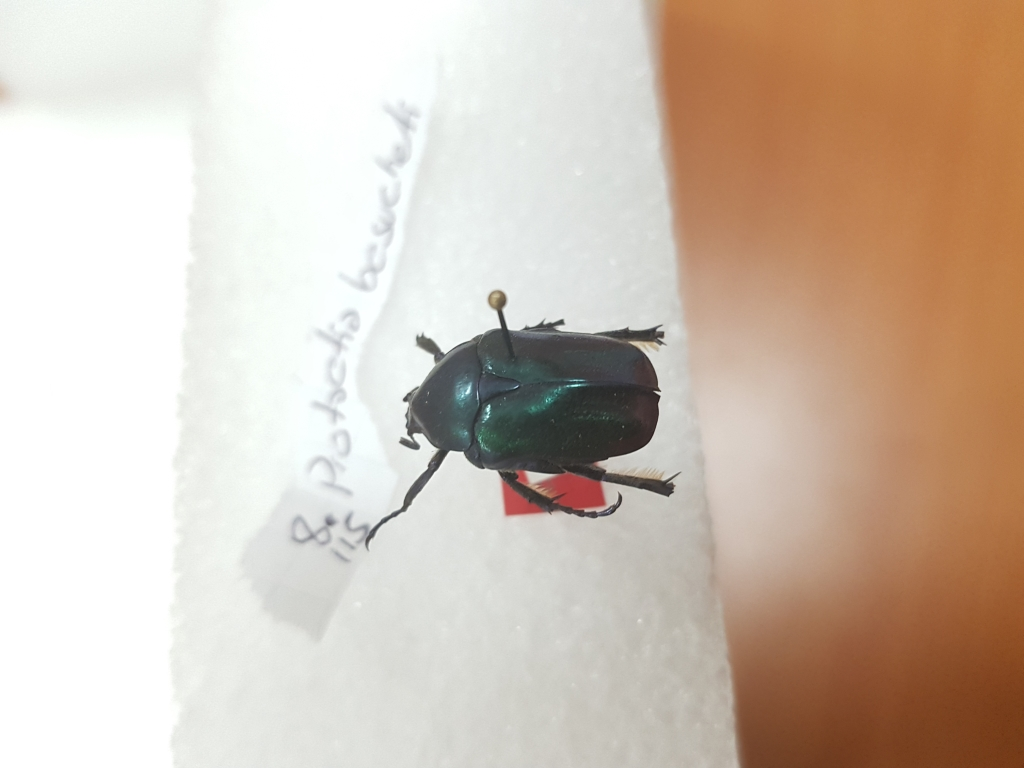Protaetia_besucheti: (352, 313, 681, 550)
